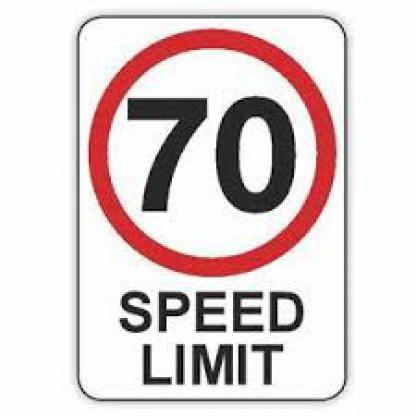Speed Limit 70: (94, 30, 338, 279)
